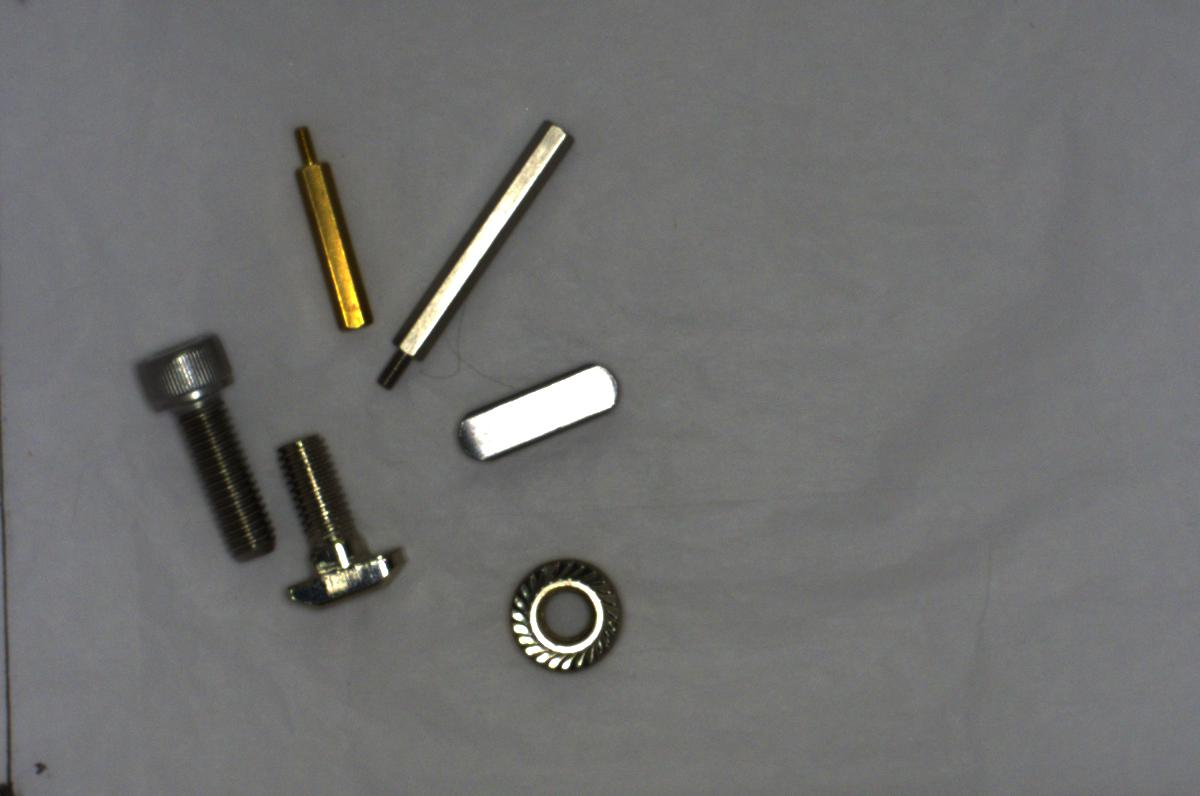Flange nut: (493, 545, 638, 688)
Hexagon pillar: (285, 122, 371, 338)
Hexagon screw: (115, 322, 281, 572)
Hexagonal steel column: (373, 105, 573, 400)
Keybar: (451, 350, 634, 468)
T-shaped screw: (267, 425, 408, 608)
